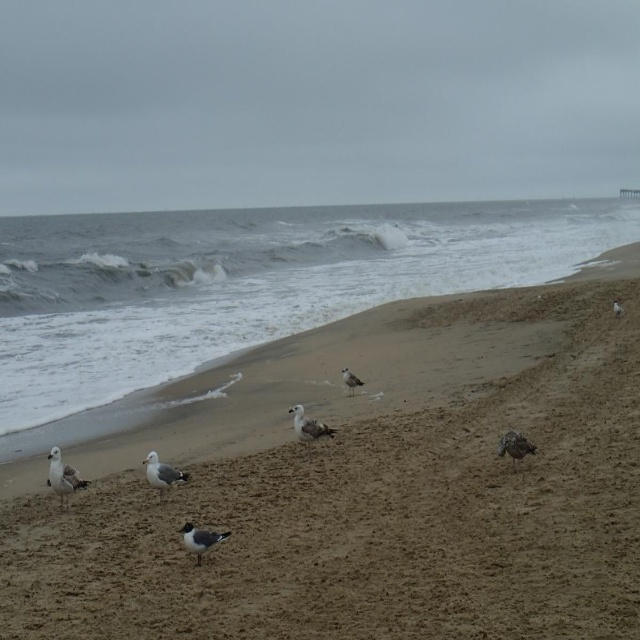linhaEspraiamento: (7, 288, 506, 436), (469, 240, 635, 290)
